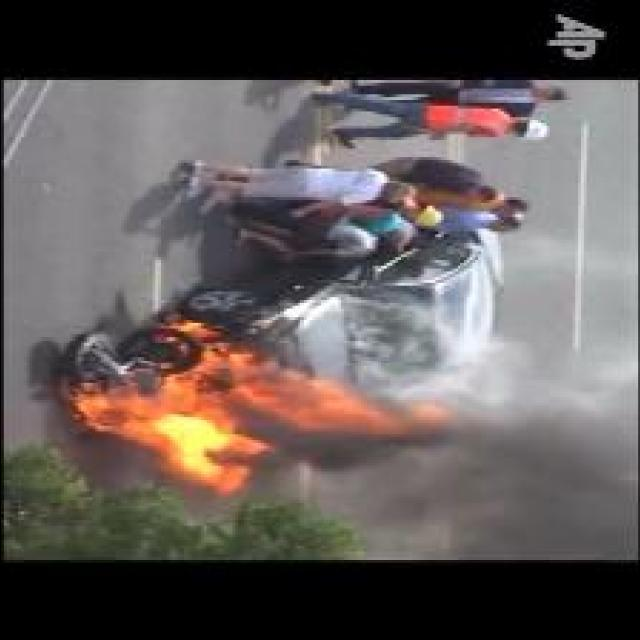Fire: (69, 340, 448, 494)
